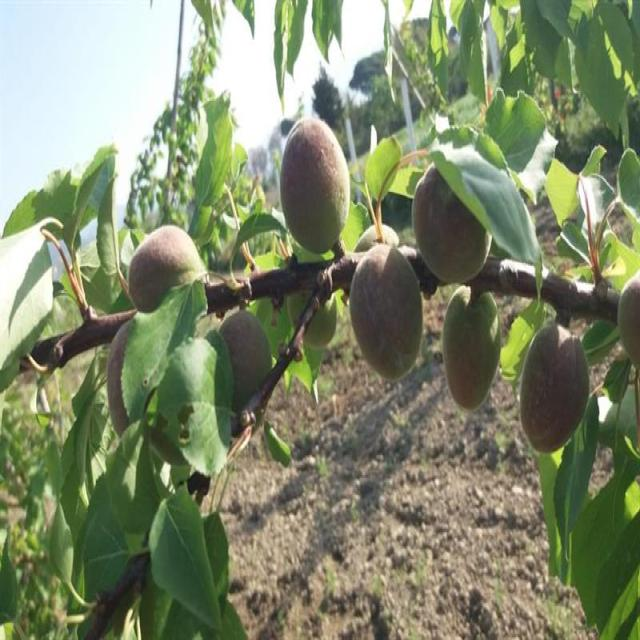kayisi: (355, 234, 423, 407), (285, 117, 348, 250)
yaprak: (140, 504, 230, 603), (46, 184, 108, 258)
